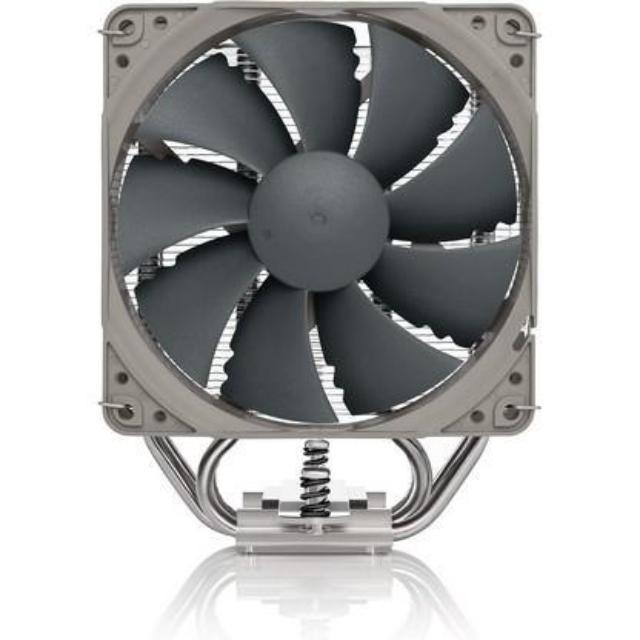CPU_Fan: (70, 1, 564, 574)
